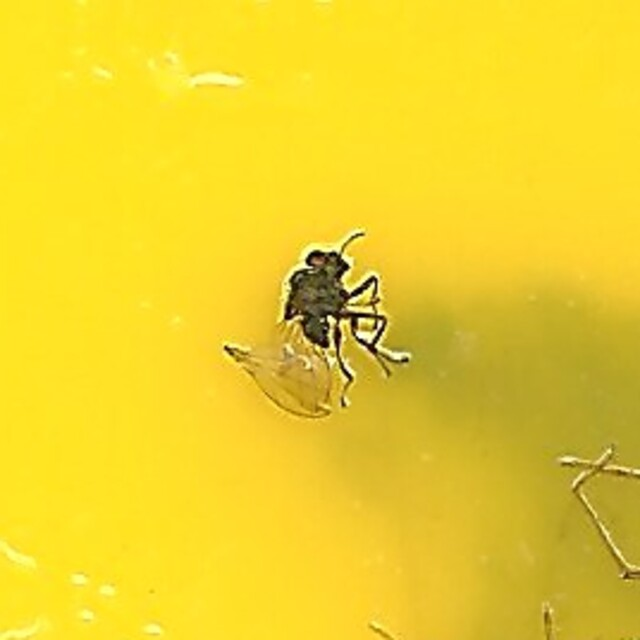Brachycera: (239, 234, 401, 406)
